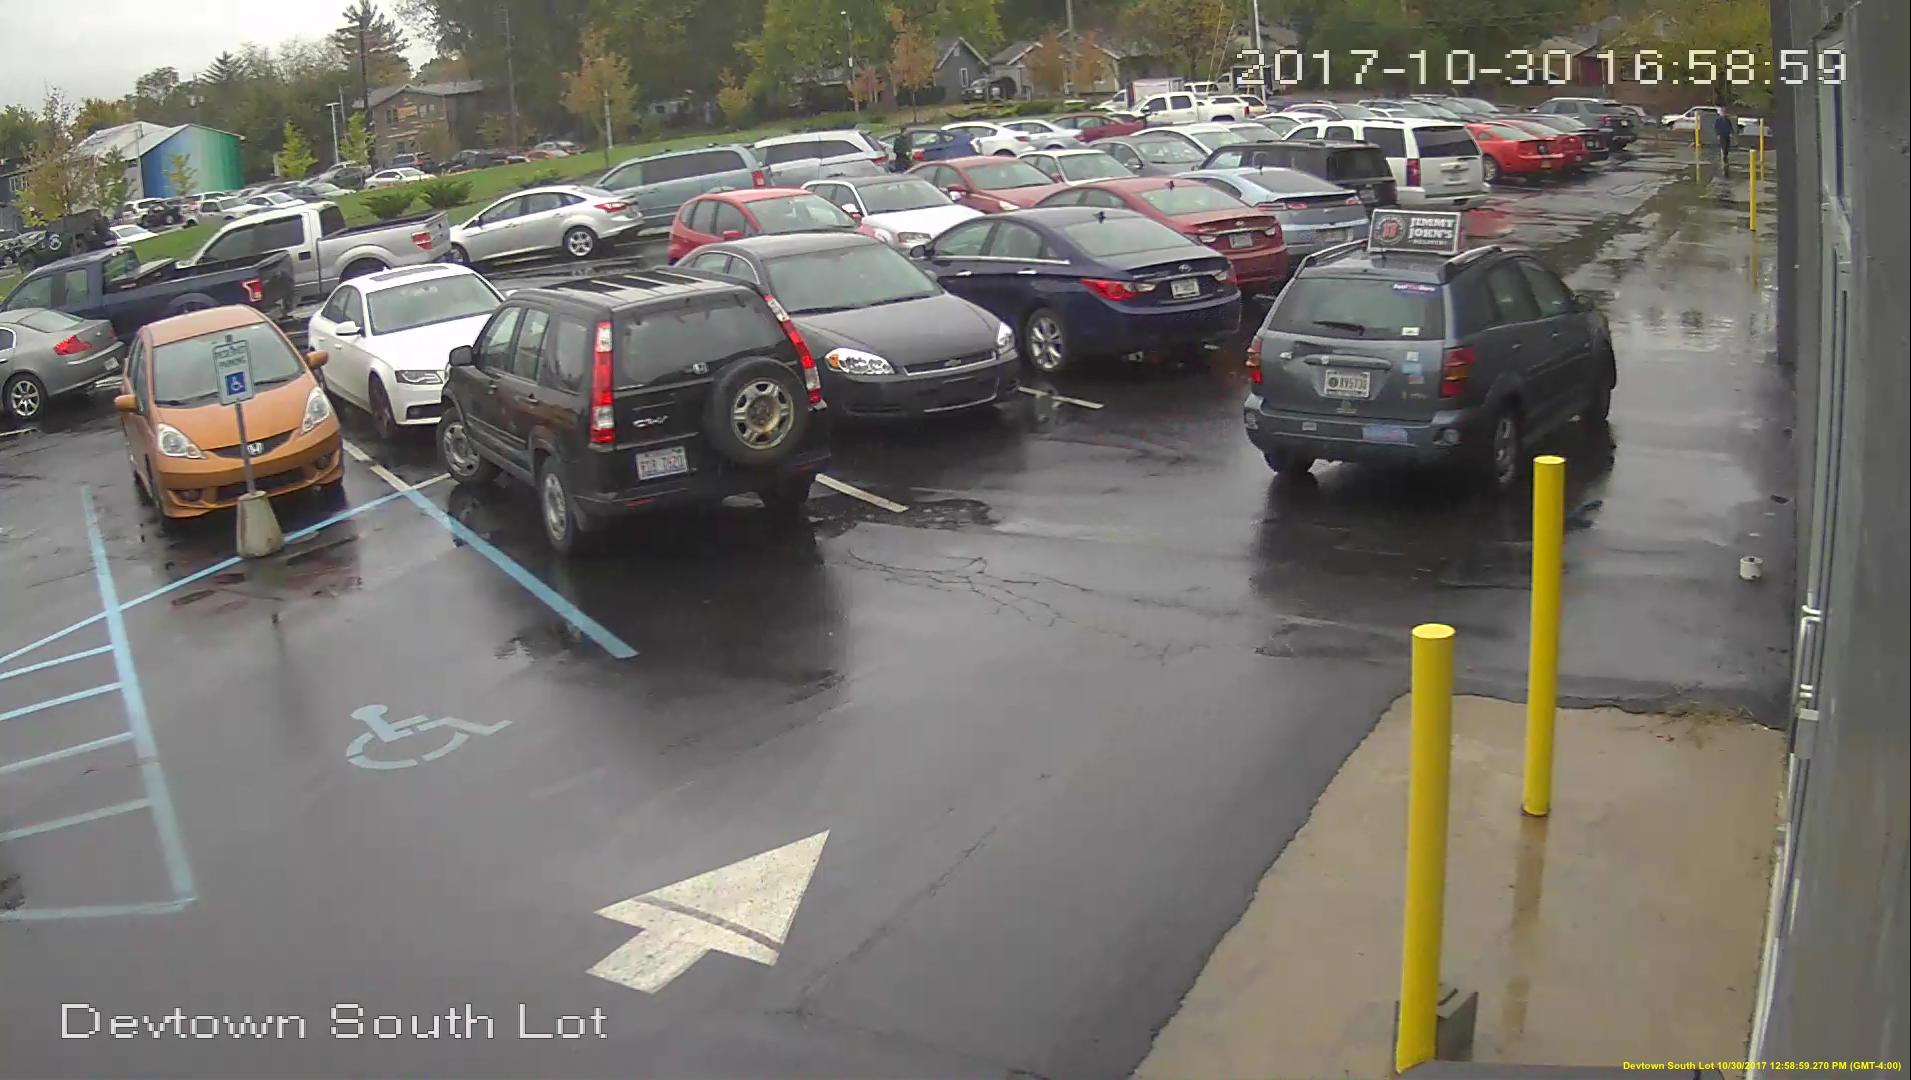jimmy_johns: (1364, 203, 1458, 261)
